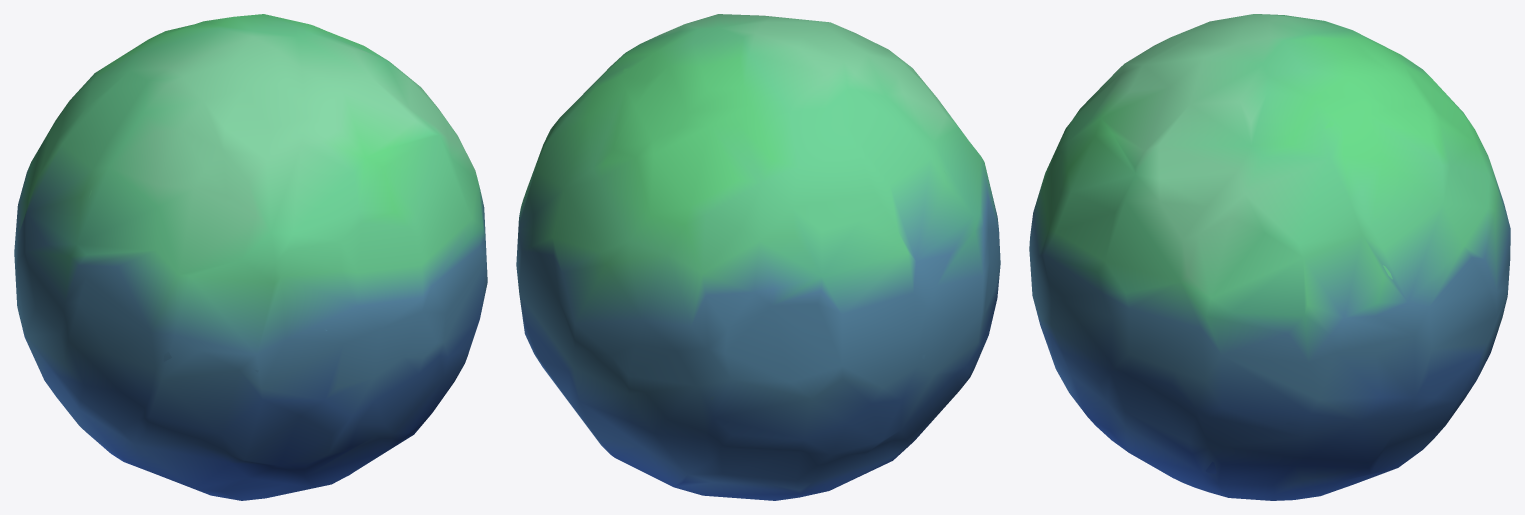
File: gen3d-planet-lod1.glb
3 renders of one model, left to right at view 1: azimuth 30°, elevation 25°; view 2: azimuth 150°, elevation 25°; view 3: azimuth 270°, elevation 25°, orthographic.
Parts seen in each view (by area): view 1: part_0; view 2: part_0; view 3: part_0.
Boxes of the visible parts, x1,y1,x2,y2 form: part_0: (14,14,487,500); part_0: (516,14,1000,500); part_0: (1029,14,1510,500).
Size of the model in its own units: 0.9778 by 0.9991 by 0.9861.
